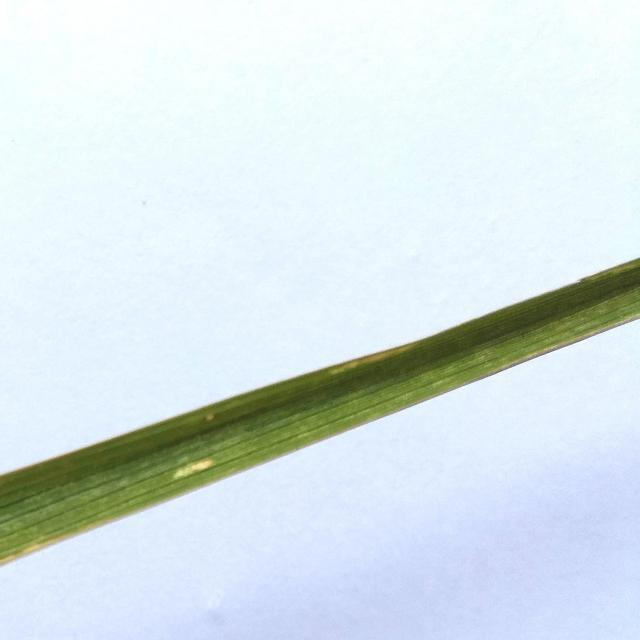Rice_Blast: (167, 455, 215, 477)
